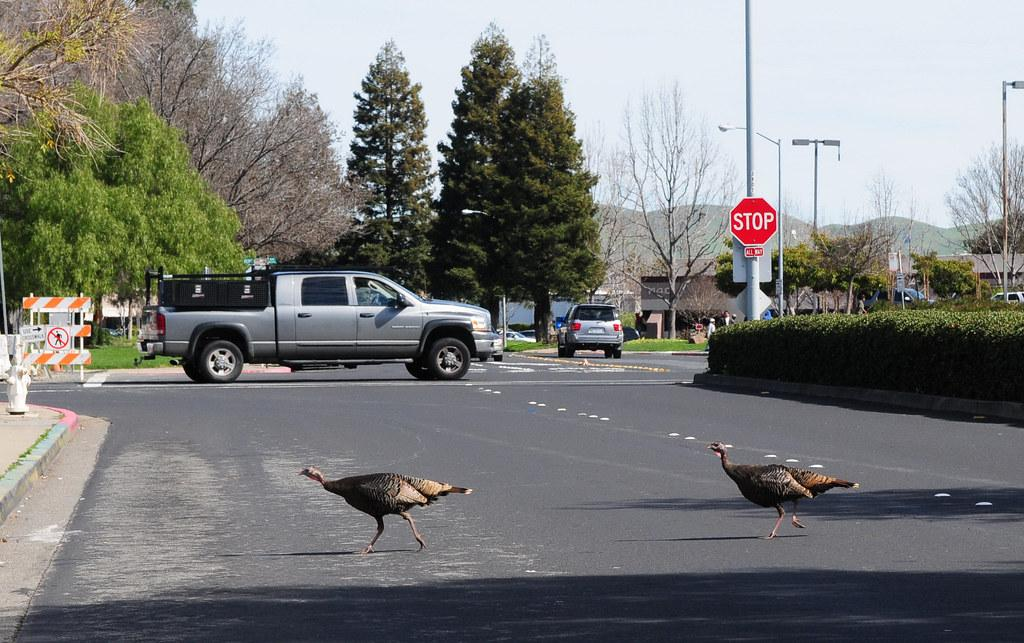car: (138, 269, 501, 382), (551, 302, 626, 364)
